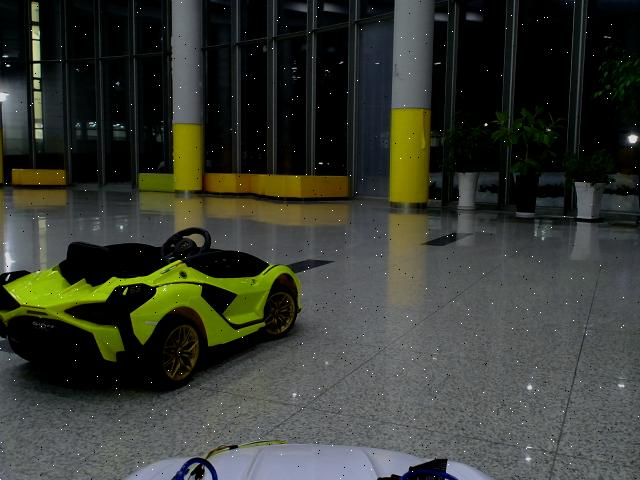car: (1, 228, 303, 391)
